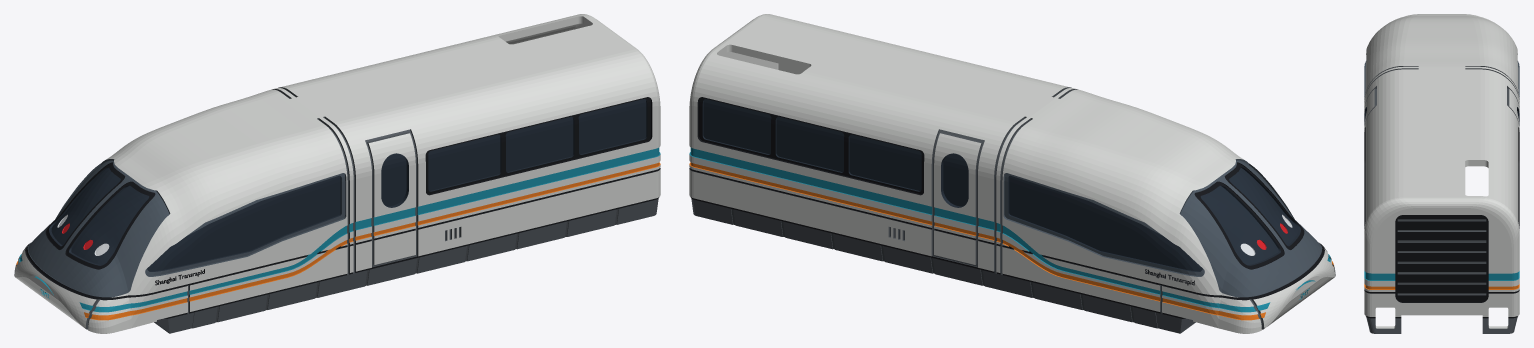
File: maglev.glb
3 renders of one model, left to right at view 1: azimuth 30°, elevation 25°; view 2: azimuth 150°, elevation 25°; view 3: azimuth 270°, elevation 25°, orthographic. The views are drawn at different scales.
Visible parts, largest first — view 1: smt_maglev; view 2: smt_maglev; view 3: smt_maglev.
Part boxes in pixels (bbox=[...]): smt_maglev: bbox=[14, 14, 660, 333]; smt_maglev: bbox=[689, 14, 1335, 333]; smt_maglev: bbox=[1364, 14, 1519, 333].
Size of the model in its own units: 150 by 38 by 40.
